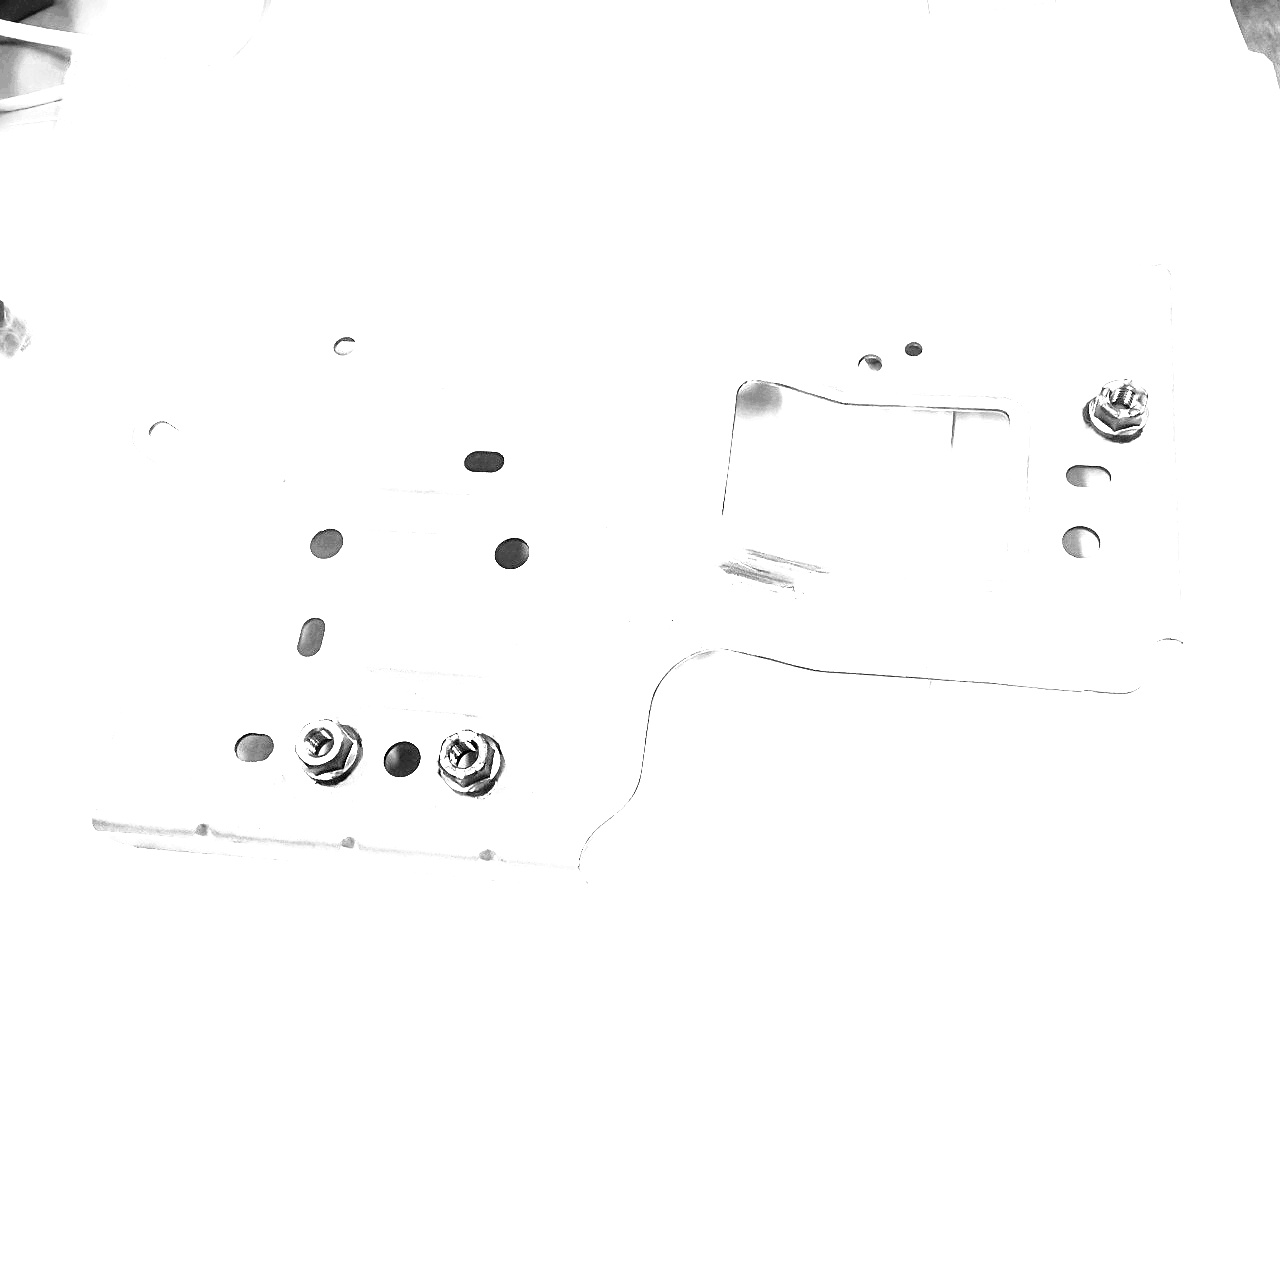dog: (433, 726, 508, 804), (290, 716, 368, 788), (1076, 376, 1155, 442)
